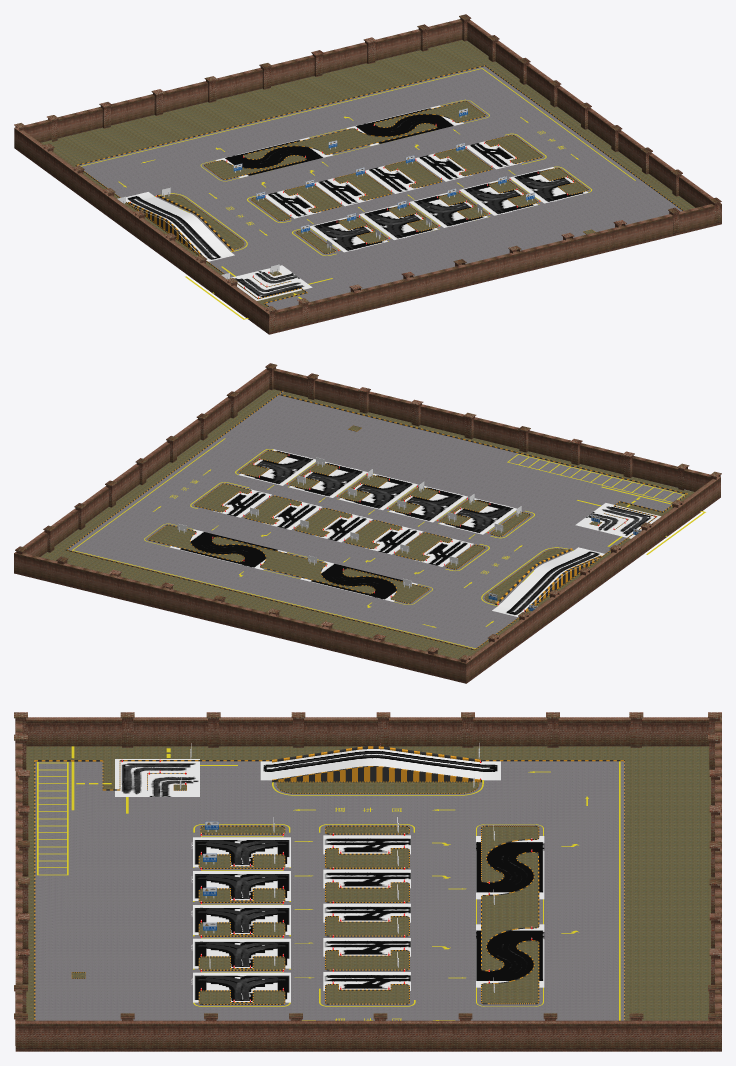
Rendered from K2_ExamHall.fbx.
3 views of the same model, one above another, from view 1: azimuth 30°, elevation 25°; view 2: azimuth 150°, elevation 25°; view 3: azimuth 270°, elevation 25° (orthographic). The views are drawn at different scales.
Visible parts, largest first — view 1: Plane001, Shape002, Box185, K2_ExamHall, Plane008, Plane018, Plane012, Plane011, Plane007, Plane006, Plane004, Plane005 (+17 smaller); view 2: Plane001, Shape002, K2_ExamHall, Box185, Plane008, Plane018, Plane012, Plane011, Plane007, Plane004, Plane006, Plane005 (+14 smaller); view 3: Plane001, Shape002, K2_ExamHall, Box185, Plane008, Plane018, polySurface1542, Plane012, Plane011, Box139, Plane007, Plane006 (+20 smaller).
Part boxes in pixels (x1,y1,x2,y2): Plane001: (40, 40, 695, 309); Shape002: (14, 19, 721, 334); Box185: (14, 14, 721, 333); K2_ExamHall: (81, 68, 635, 287); Plane008: (126, 192, 234, 261); Plane018: (230, 265, 312, 300); Plane012: (346, 105, 463, 145); Plane011: (215, 137, 332, 177); Plane007: (509, 167, 588, 203); Plane006: (459, 180, 537, 215); Plane004: (359, 205, 437, 239); Plane005: (409, 192, 487, 227); Plane001: (40, 389, 694, 659); Shape002: (14, 368, 720, 683); K2_ExamHall: (72, 438, 685, 648); Box185: (15, 363, 721, 662); Plane008: (492, 547, 604, 617); Plane018: (575, 503, 661, 538); Plane012: (170, 529, 286, 569); Plane011: (300, 561, 417, 601); Plane007: (239, 449, 315, 485); Plane004: (389, 486, 467, 522); Plane006: (289, 461, 367, 497); Plane005: (339, 473, 417, 510); Plane001: (22, 746, 714, 1020); Shape002: (15, 717, 721, 1051); K2_ExamHall: (37, 761, 620, 1020); Box185: (14, 712, 721, 1045); Plane008: (260, 749, 500, 780); Plane018: (115, 759, 199, 796); polySurface1542: (272, 746, 481, 782); Plane012: (476, 924, 544, 987); Plane011: (476, 836, 544, 899); Box139: (276, 781, 479, 793); Plane007: (193, 972, 290, 1002); Plane006: (193, 938, 290, 968).
Bounding box in the file's own units: 142 × 7.02 × 137.
